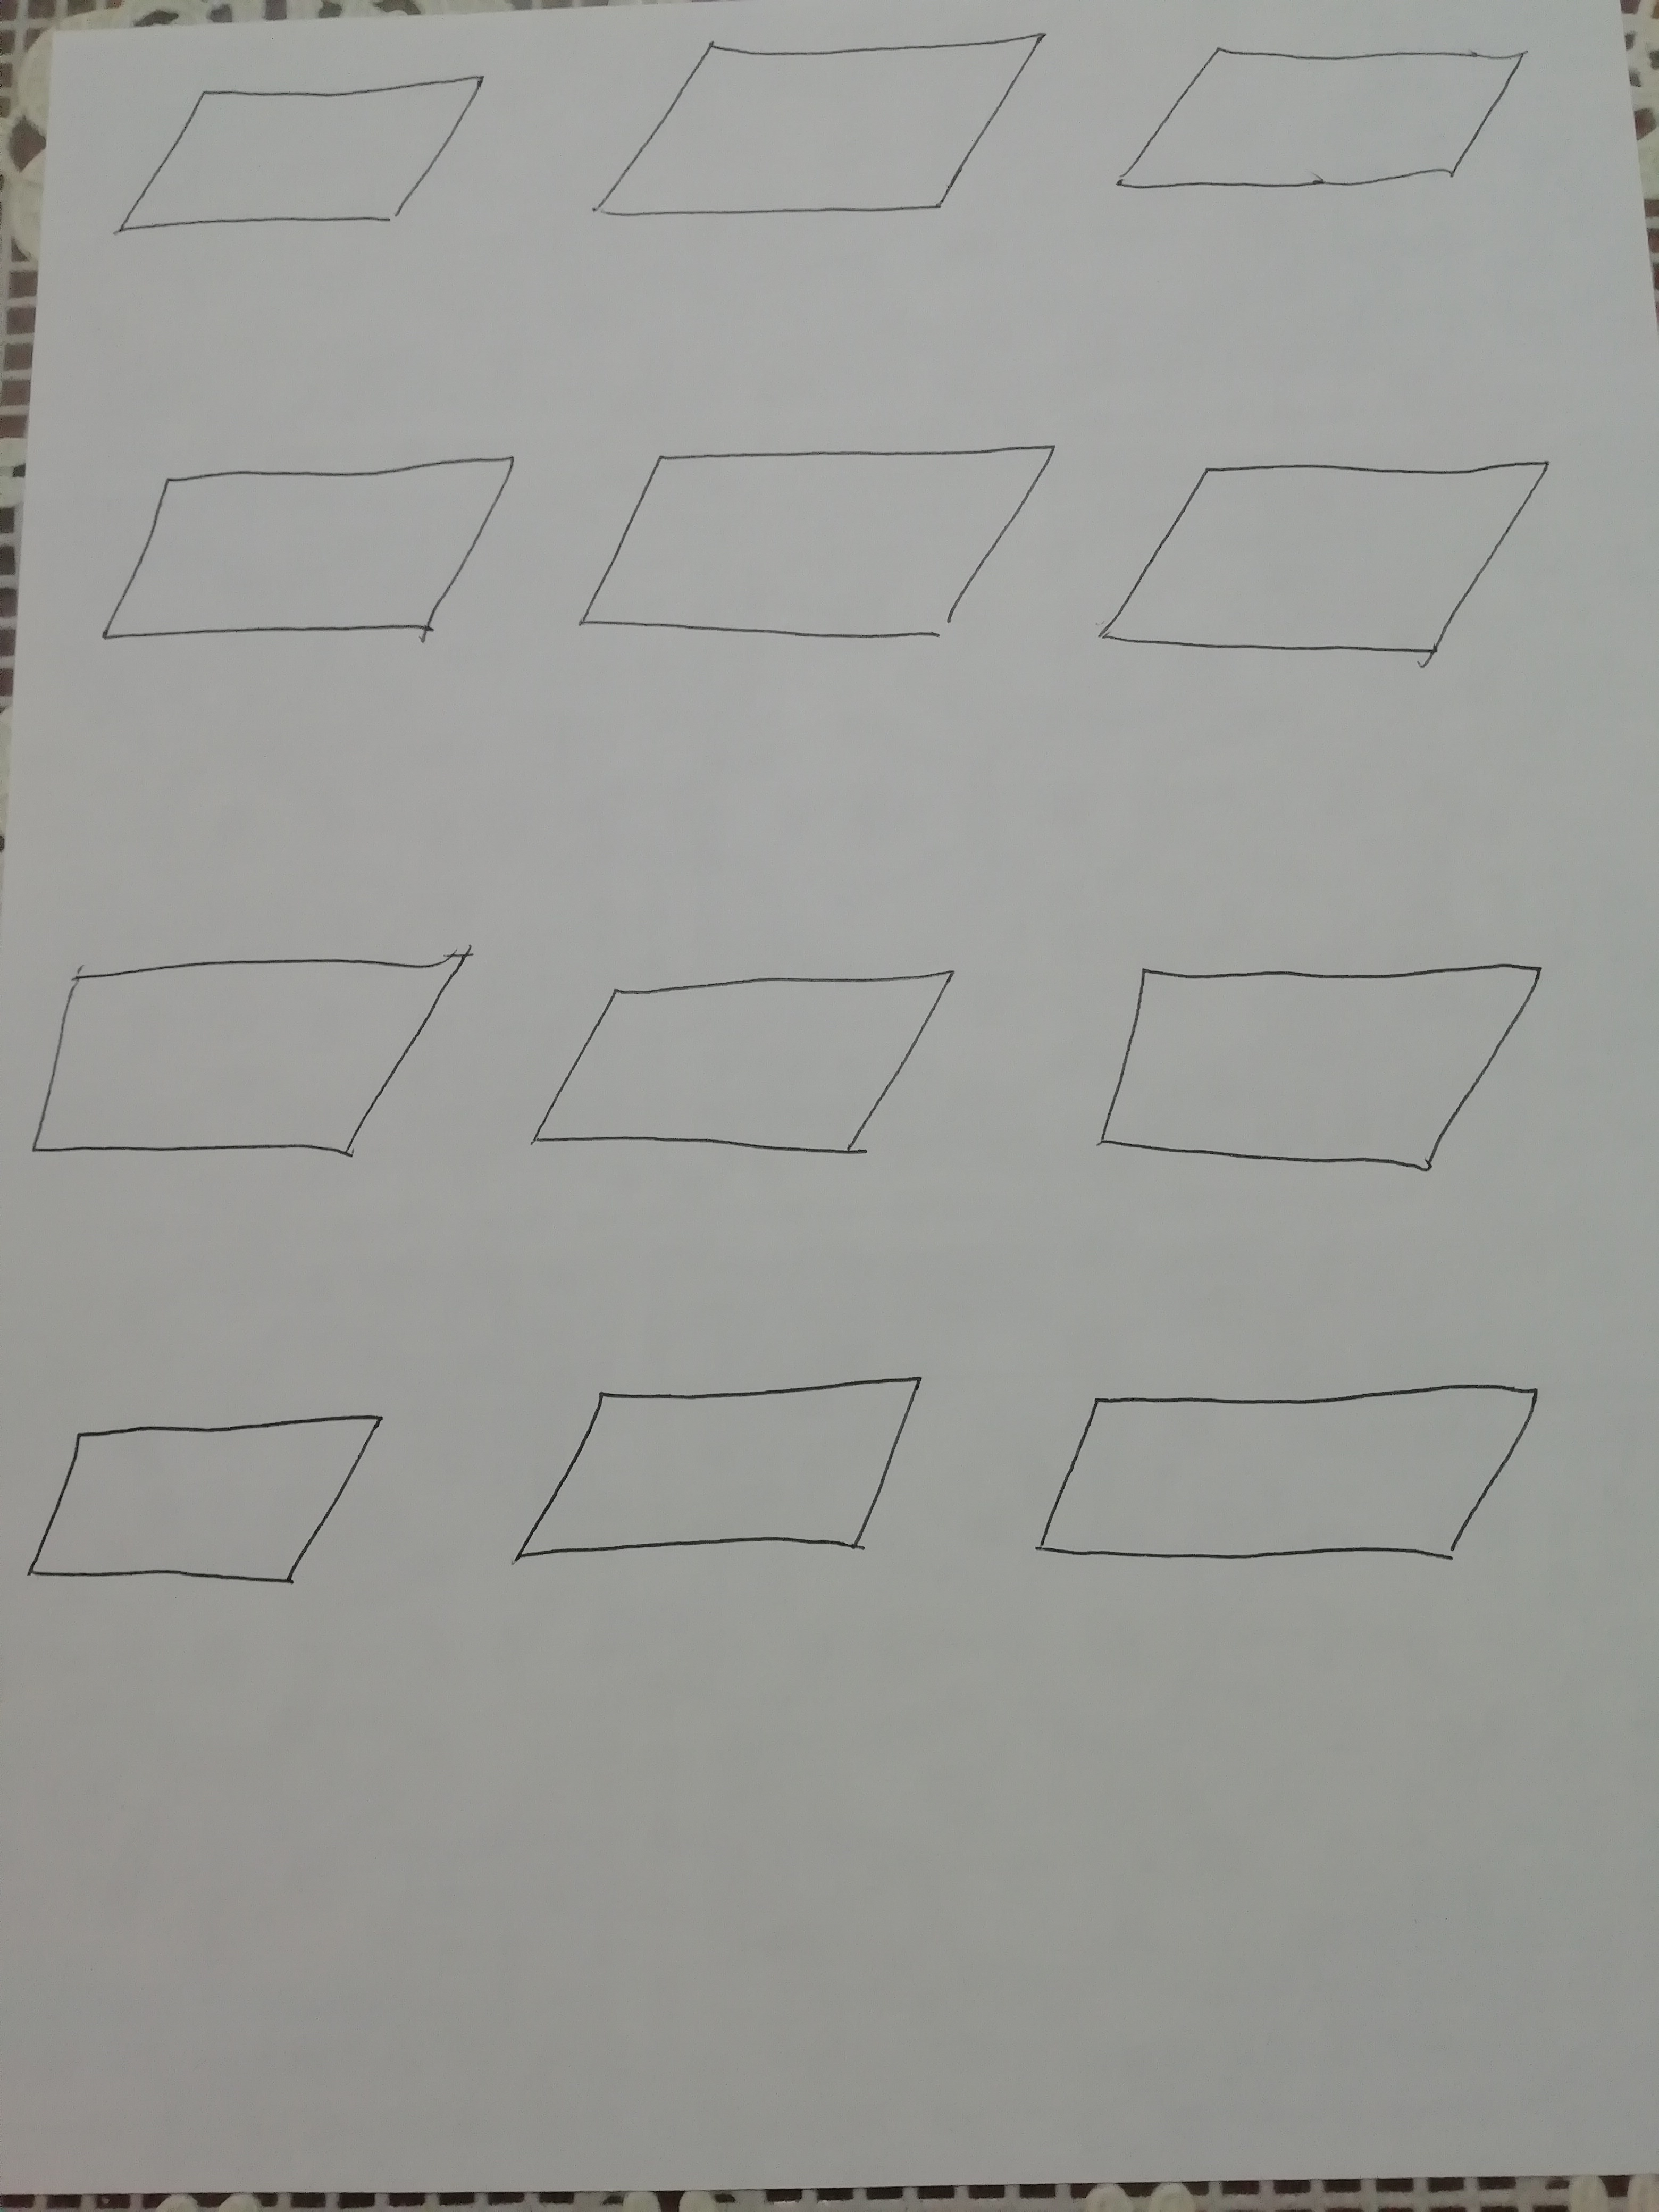scan: (997, 1350, 1582, 1609), (1082, 421, 1593, 709), (561, 408, 1082, 685), (1061, 932, 1589, 1198), (9, 928, 498, 1198), (77, 421, 544, 681), (505, 946, 995, 1188), (568, 14, 1072, 247), (502, 1362, 965, 1588), (1108, 17, 1558, 233), (9, 1400, 427, 1620), (98, 49, 523, 251)
